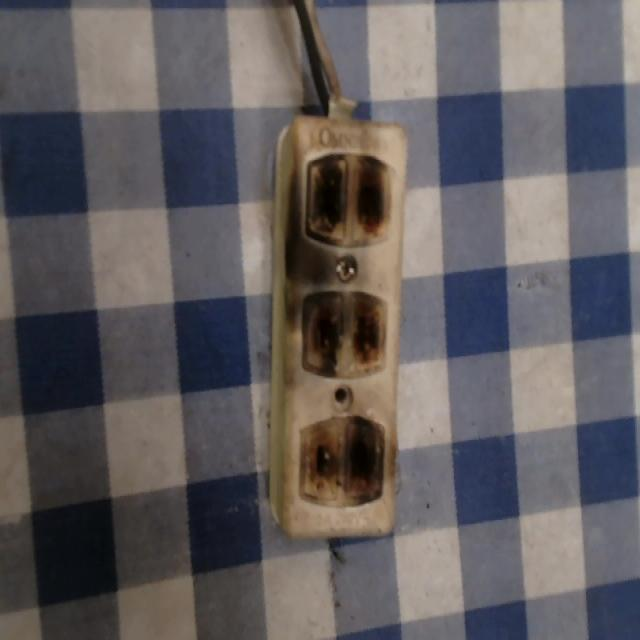-: (295, 284, 391, 381), (300, 147, 391, 248), (296, 412, 387, 504)
